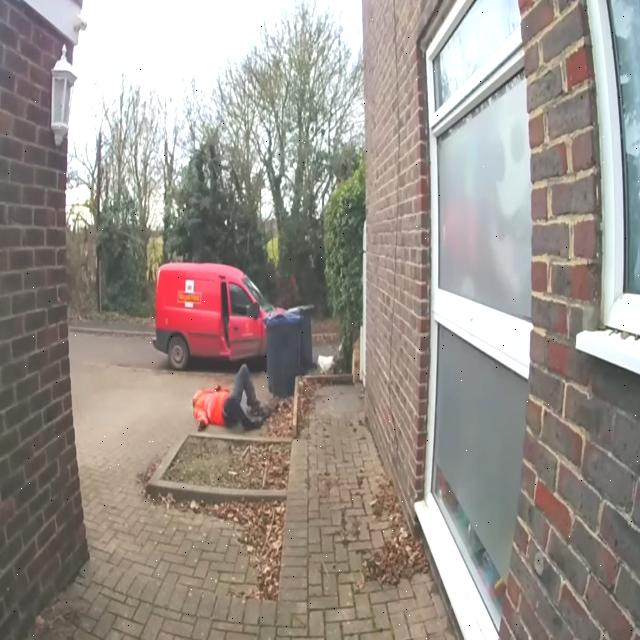fallen: (192, 363, 267, 430)
